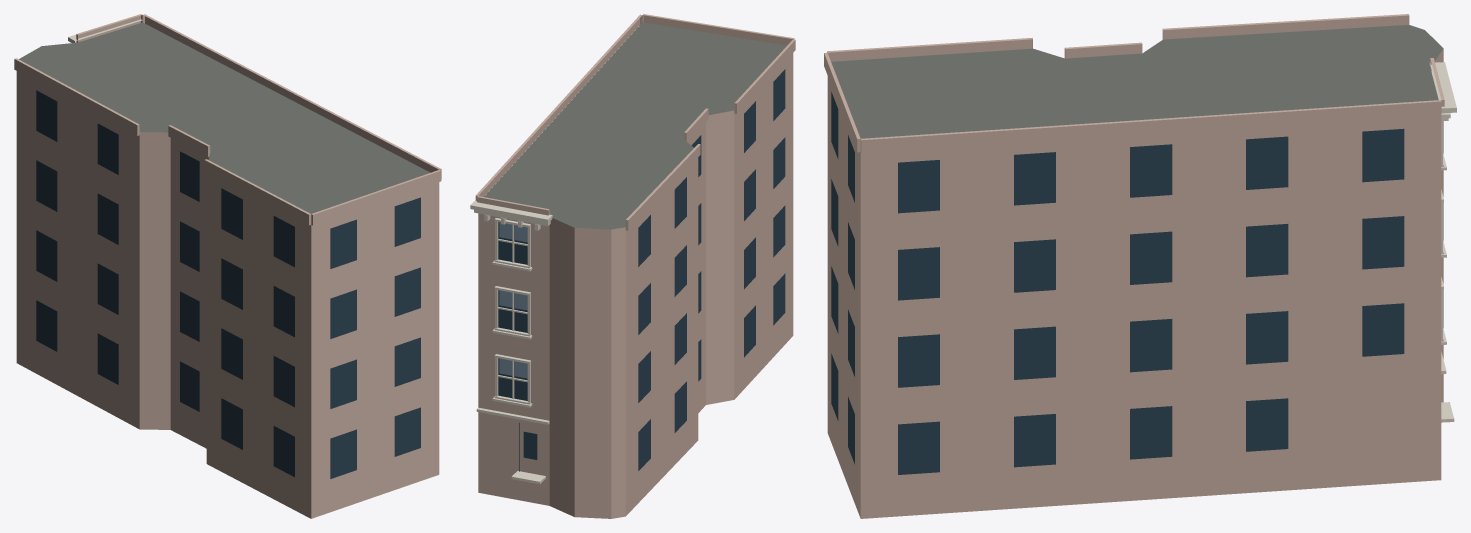
3 views of the same model, side by side, from view 1: azimuth 30°, elevation 25°; view 2: azimuth 150°, elevation 25°; view 3: azimuth 270°, elevation 25° (orthographic). The views are drawn at different scales.
Parts seen in each view (by area): view 1: Footprint 0 / surface 2, Footprint 0 / surface 1, Inset glazing, Facade bay volumes; view 2: Footprint 0 / surface 2, Footprint 0 / surface 1, Inset glazing, Facade bay volumes, Cornices and window frames, Sky reflection panels; view 3: Footprint 0 / surface 2, Footprint 0 / surface 1, Inset glazing, Facade bay volumes, Cornices and window frames.
Boxes of the visible parts, bbox=[...] form: Footprint 0 / surface 2: bbox=[16, 71, 439, 518]; Footprint 0 / surface 1: bbox=[19, 22, 430, 213]; Inset glazing: bbox=[36, 90, 420, 478]; Facade bay volumes: bbox=[14, 14, 441, 225]; Footprint 0 / surface 2: bbox=[478, 53, 793, 518]; Footprint 0 / surface 1: bbox=[484, 22, 786, 229]; Inset glazing: bbox=[498, 69, 785, 470]; Facade bay volumes: bbox=[475, 14, 795, 230]; Cornices and window frames: bbox=[470, 200, 552, 484]; Sky reflection panels: bbox=[499, 222, 527, 378]; Footprint 0 / surface 2: bbox=[827, 49, 1443, 518]; Footprint 0 / surface 1: bbox=[831, 25, 1443, 138]; Inset glazing: bbox=[831, 92, 1404, 474]; Facade bay volumes: bbox=[824, 14, 1444, 153]; Cornices and window frames: bbox=[1429, 62, 1456, 422].
Size of the model in its own units: 10.15 by 14.25 by 21.49.
